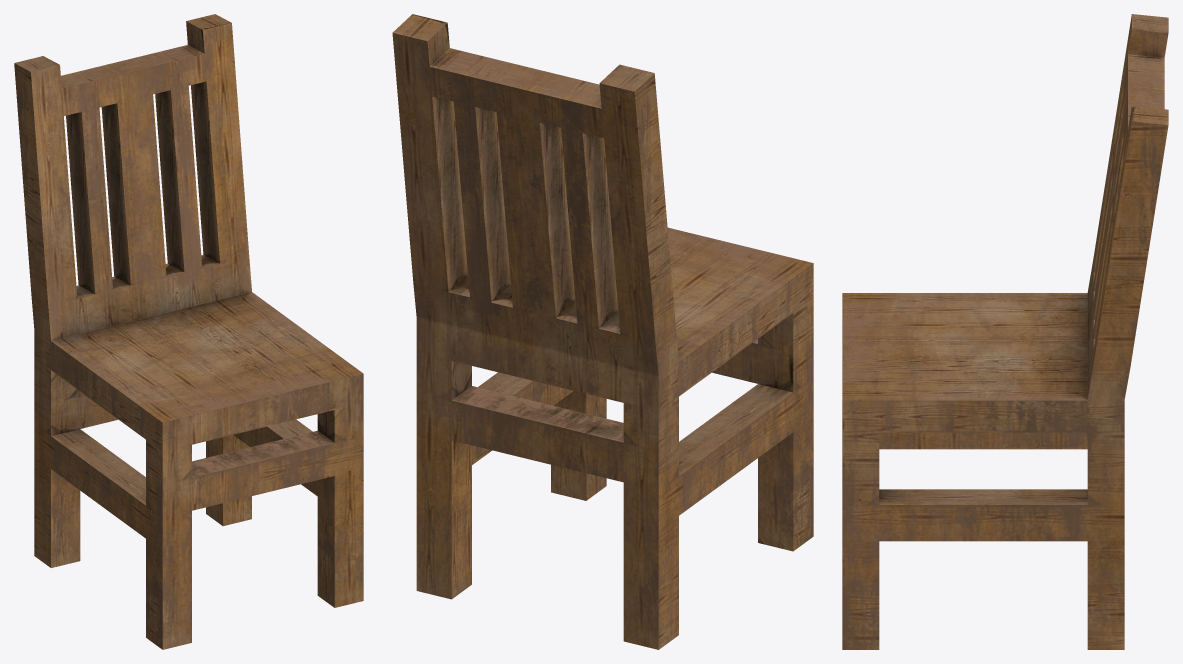
Rendered from Chair_BaseColor.glb.
3 views of the same model, side by side, from view 1: azimuth 30°, elevation 25°; view 2: azimuth 150°, elevation 25°; view 3: azimuth 270°, elevation 25° (orthographic). The views are drawn at different scales.
Parts seen in each view (by area): view 1: Chair_Low_UV; view 2: Chair_Low_UV; view 3: Chair_Low_UV.
Boxes of the visible parts, x1,y1,x2,y2 form: Chair_Low_UV: (14,14,363,649); Chair_Low_UV: (392,14,813,649); Chair_Low_UV: (842,14,1168,649).
Size of the model in its own units: 3.51 by 8.03 by 4.49.
1 material, 1 textured.
